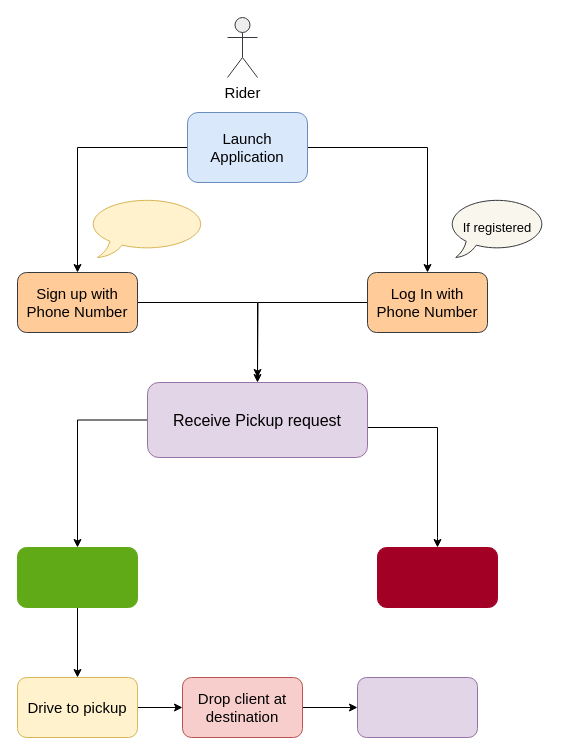
The diagram is 565 pixels wide and 755 high, and some of its shapes have lost their labels. The shapes that lost their labels are listed below. From the top down, each one's centre as x and y in pixels, then its label:
At [147,227]: "If not registered".
At [77,577]: "Accept".
At [437,577]: "Decline".
At [417,707]: "Take service charge".
